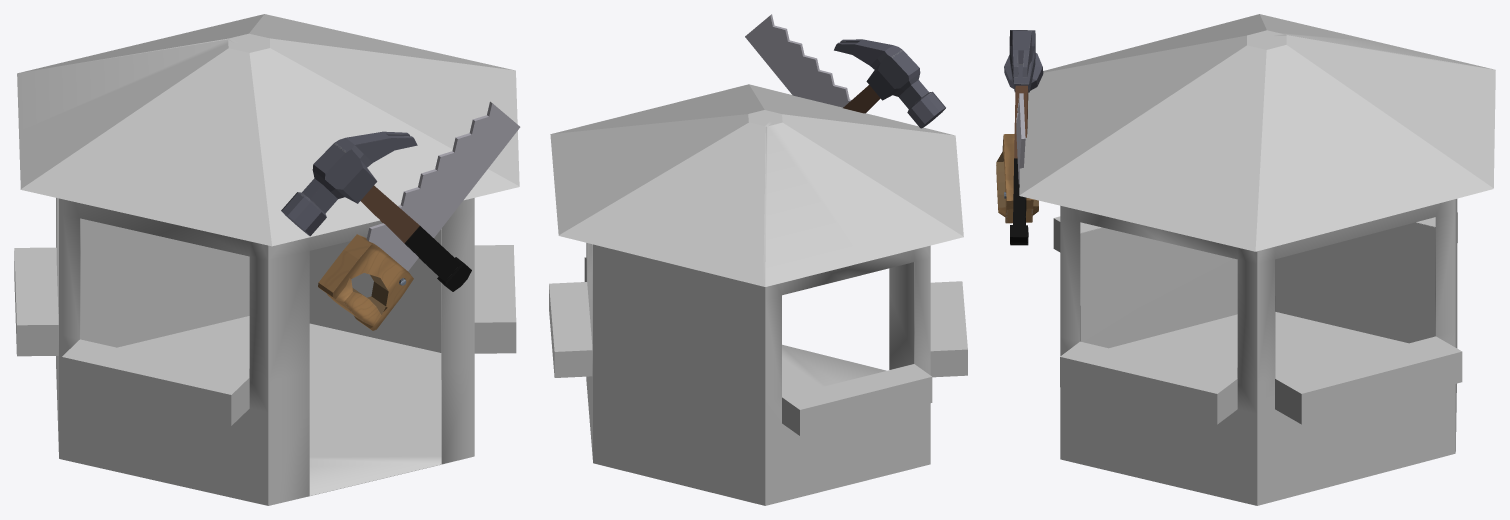
Rendered from CasetaConMateriales.fbx.
The picture shows the model from 3 angles, left to right: view 1: azimuth 30°, elevation 25°; view 2: azimuth 150°, elevation 25°; view 3: azimuth 270°, elevation 25°; orthographic projection. The views are drawn at different scales.
Parts seen in each view (by area): view 1: Cube.001, Handle, Cube.002; view 2: Cube.001, Cube.002, Handle; view 3: Cube.001, Cube.002, Handle.
Part boxes in pixels (<box>): Cube.001: <box>14,14,519,505</box>; Handle: <box>318,101,520,330</box>; Cube.002: <box>281,131,471,291</box>; Cube.001: <box>549,84,967,505</box>; Cube.002: <box>834,39,945,128</box>; Handle: <box>745,14,851,107</box>; Cube.001: <box>1019,14,1495,505</box>; Cube.002: <box>1004,30,1043,245</box>; Handle: <box>996,93,1038,223</box>.
Size of the model in its own units: 998 by 715 by 888.
